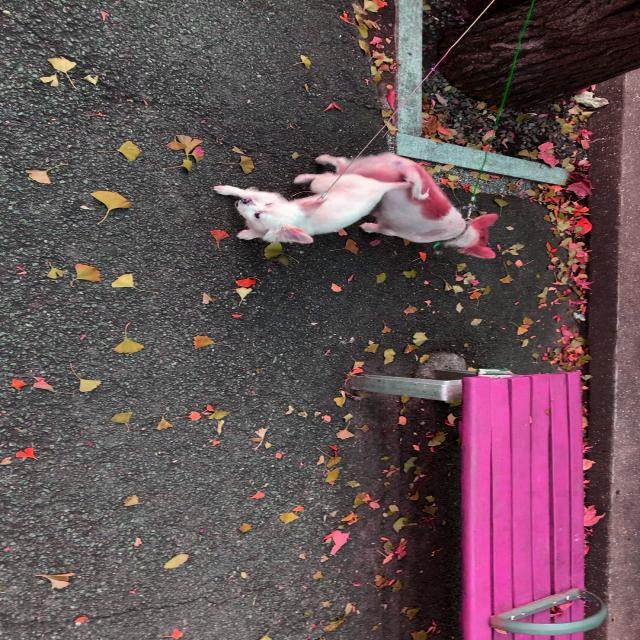Dog: (271, 80, 460, 183), (308, 129, 434, 241)
